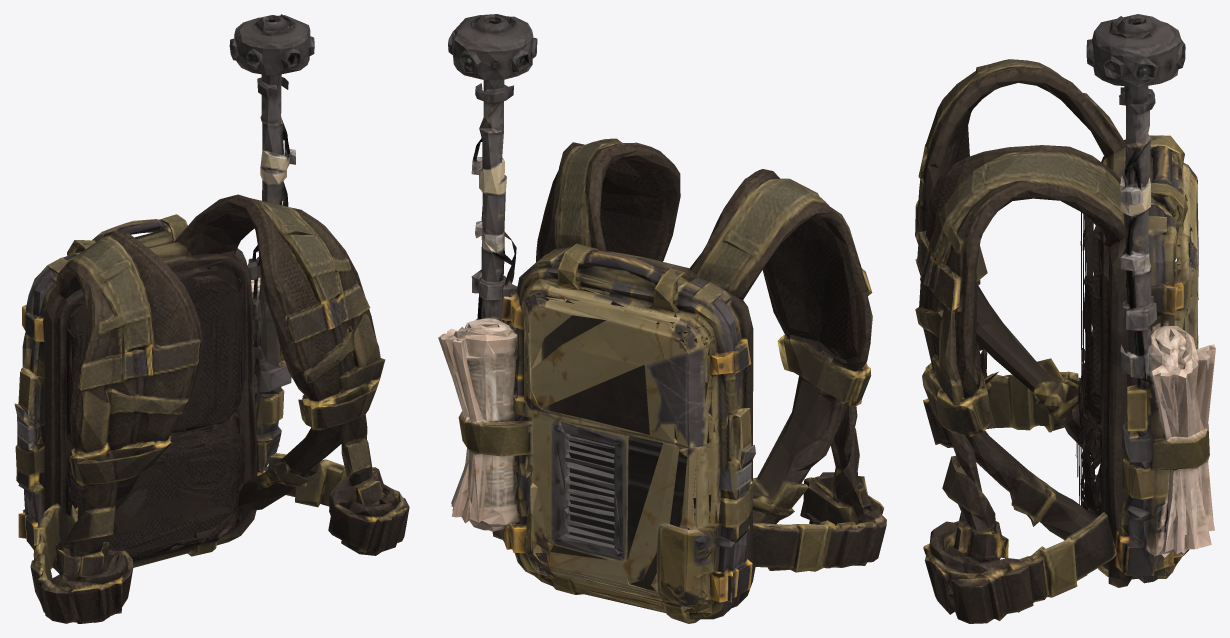
The model's file is prepared-pack.glb.
3 renders of one model, left to right at view 1: azimuth 30°, elevation 25°; view 2: azimuth 150°, elevation 25°; view 3: azimuth 270°, elevation 25°, orthographic. The views are drawn at different scales.
Visible parts, largest first — view 1: operator_pack; view 2: operator_pack; view 3: operator_pack.
Part boxes in pixels (x1,y1,x2,y2): operator_pack: (14,14,409,623); operator_pack: (438,14,886,623); operator_pack: (915,14,1215,623).
Bounding box in the file's own units: 0.5294 × 0.7097 × 0.3214.
1 material, 1 textured.
